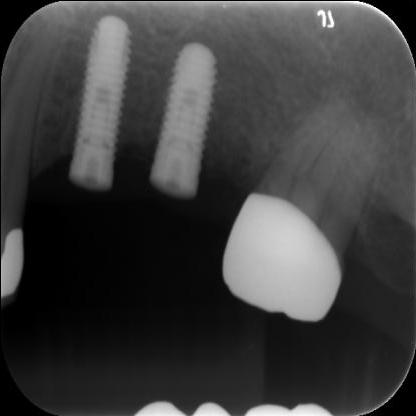Bego: (143, 32, 227, 209), (64, 7, 138, 205)
